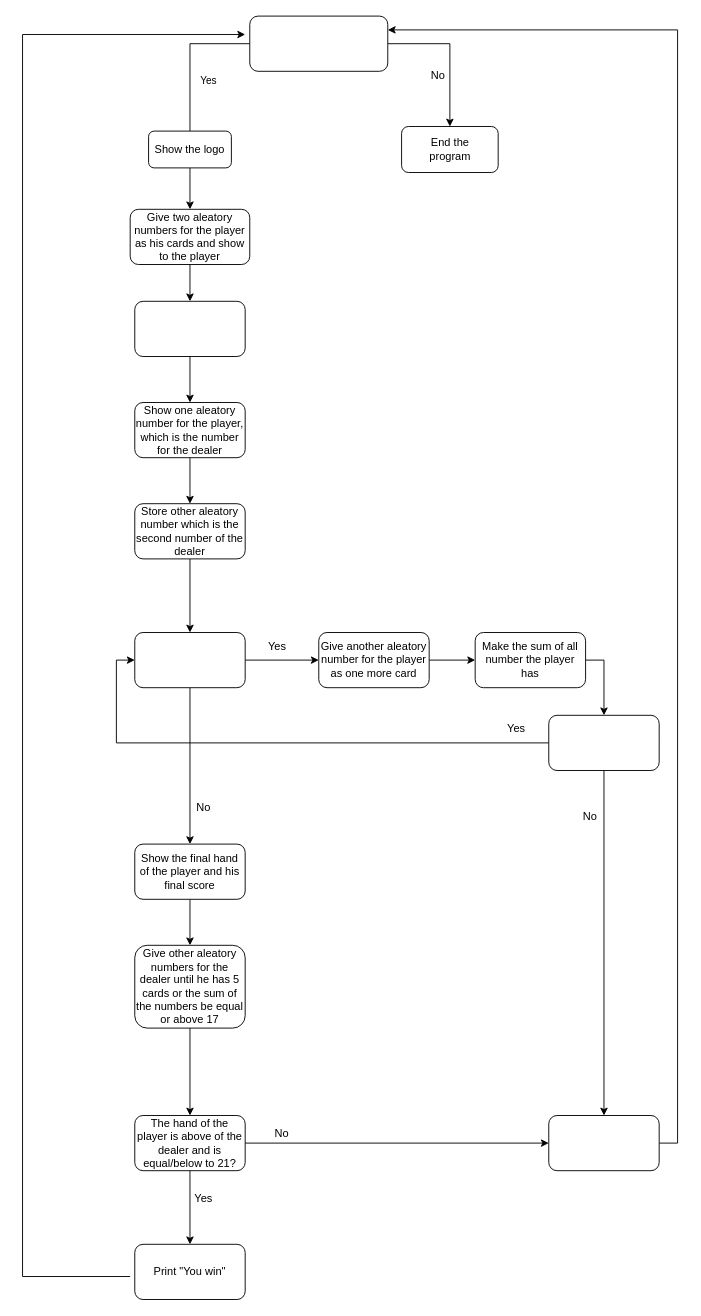
The diagram is 701 pixels wide and 1316 high, and some of its shapes have lost their labels. The centre of each missing label's shape, as x and y in pixels:
Ask if the player want another card: point (189, 660)
Ask if the player want to play a game of blackjack: point (318, 43)
Make the sum of these two numbers and show to the player: point (189, 328)
Print "You lose": point (603, 1143)
The sum of all numbers is equal/below to 21?: point (603, 742)
